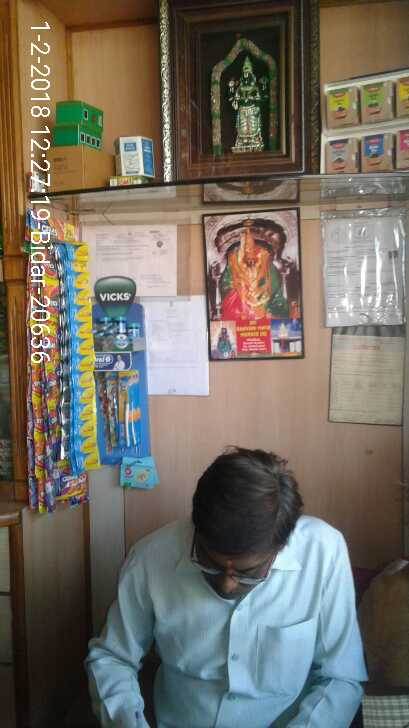pharmacy: (104, 367, 141, 452), (91, 309, 146, 348)
